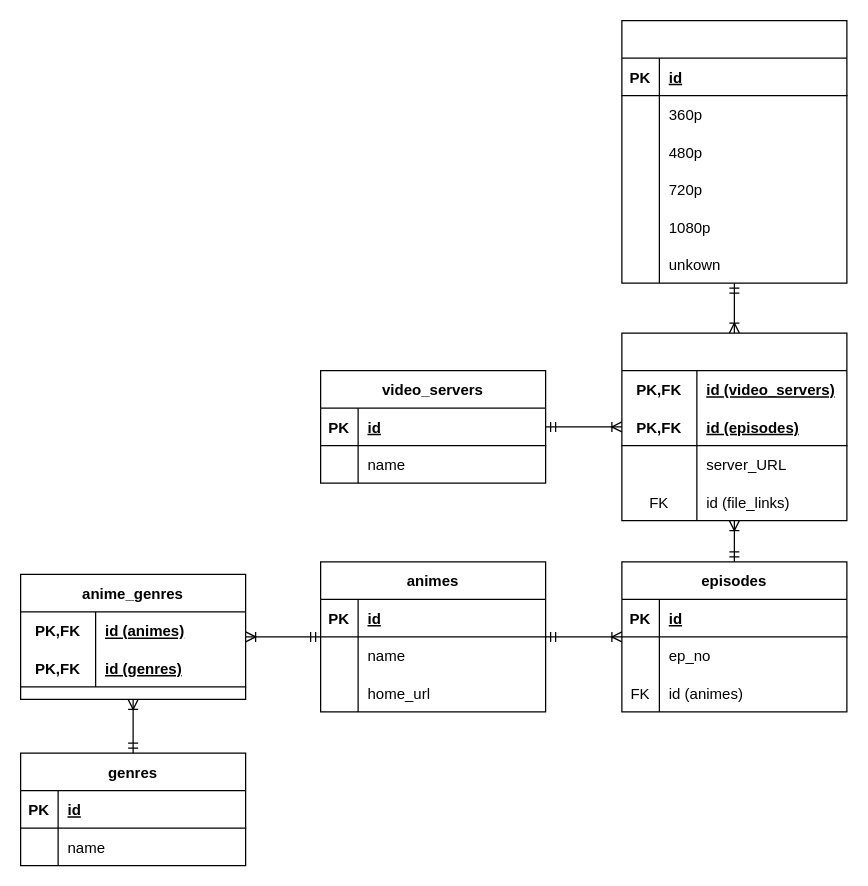
Image size: 868x886. Some labels were removed from this diagram. The shapes that lost their labels are listed below. From the top down, each one's box as (x1, y1, x2, y2) in pixels, then its label:
(621, 19, 847, 283): file_links
(621, 332, 847, 521): episode_details
